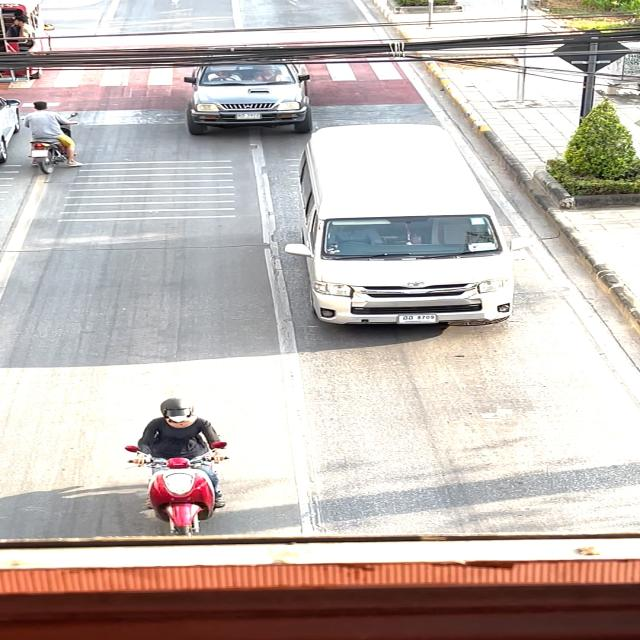car: (284, 120, 528, 343), (176, 38, 319, 136)
